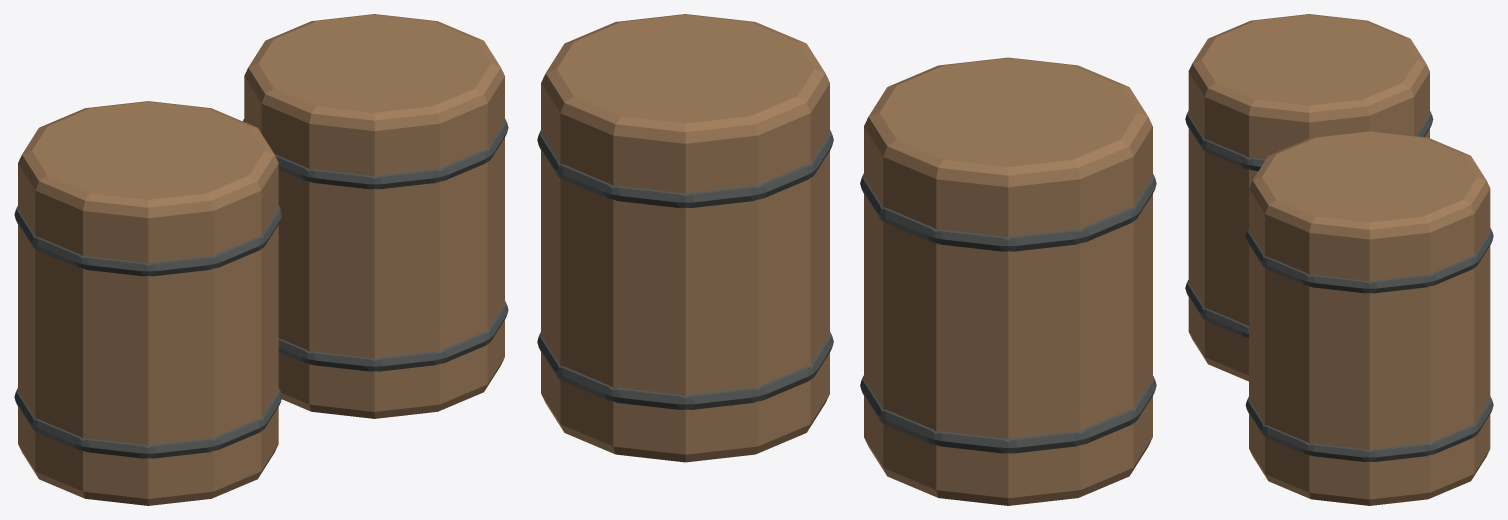
File: prop-barrels.glb
The picture shows the model from 3 angles, left to right: view 1: azimuth 30°, elevation 25°; view 2: azimuth 150°, elevation 25°; view 3: azimuth 270°, elevation 25°; orthographic projection. The views are drawn at different scales.
Parts seen in each view (by area): view 1: Aged oak, Forged iron; view 2: Aged oak, Forged iron; view 3: Aged oak, Forged iron.
Boxes of the visible parts, x1,y1,x2,y2 form: Aged oak: [18, 14, 504, 505]; Forged iron: [14, 119, 508, 458]; Aged oak: [541, 14, 1152, 505]; Forged iron: [537, 130, 1156, 453]; Aged oak: [1188, 14, 1490, 505]; Forged iron: [1185, 111, 1493, 461].
Size of the model in its own units: 1.04 by 0.62 by 0.6127.
